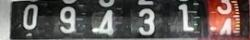digits: (95, 9, 118, 38), (215, 0, 233, 36), (137, 8, 156, 38), (178, 3, 195, 33), (59, 5, 77, 32), (22, 4, 38, 29)
